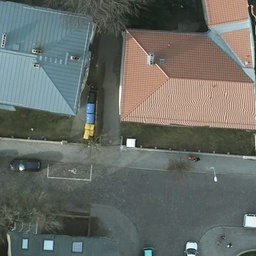car: (9, 157, 43, 174)
